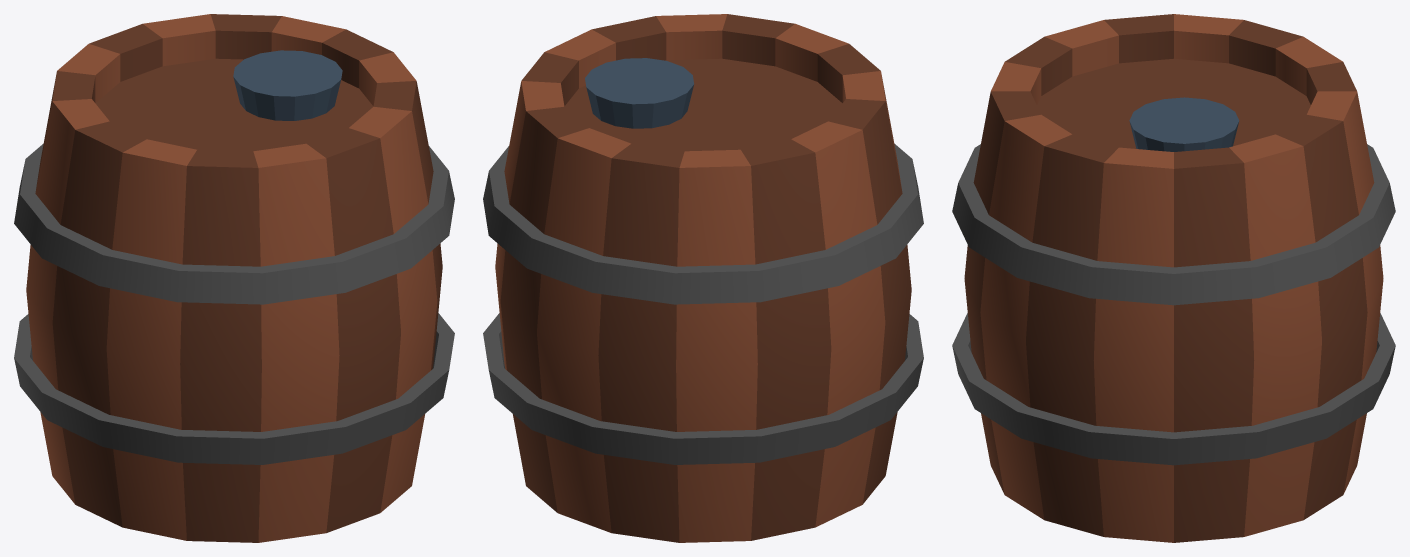
Rendered from Barrel.fbx.
The picture shows the model from 3 angles, left to right: view 1: azimuth 30°, elevation 25°; view 2: azimuth 150°, elevation 25°; view 3: azimuth 270°, elevation 25°; orthographic projection.
Parts seen in each view (by area): view 1: Barrel; view 2: Barrel; view 3: Barrel.
Boxes of the visible parts, x1,y1,x2,y2 form: Barrel: (14, 14, 454, 542); Barrel: (483, 14, 923, 542); Barrel: (952, 14, 1395, 542).
Bounding box in the file's own units: 0.6351 × 0.5909 × 0.6351.
